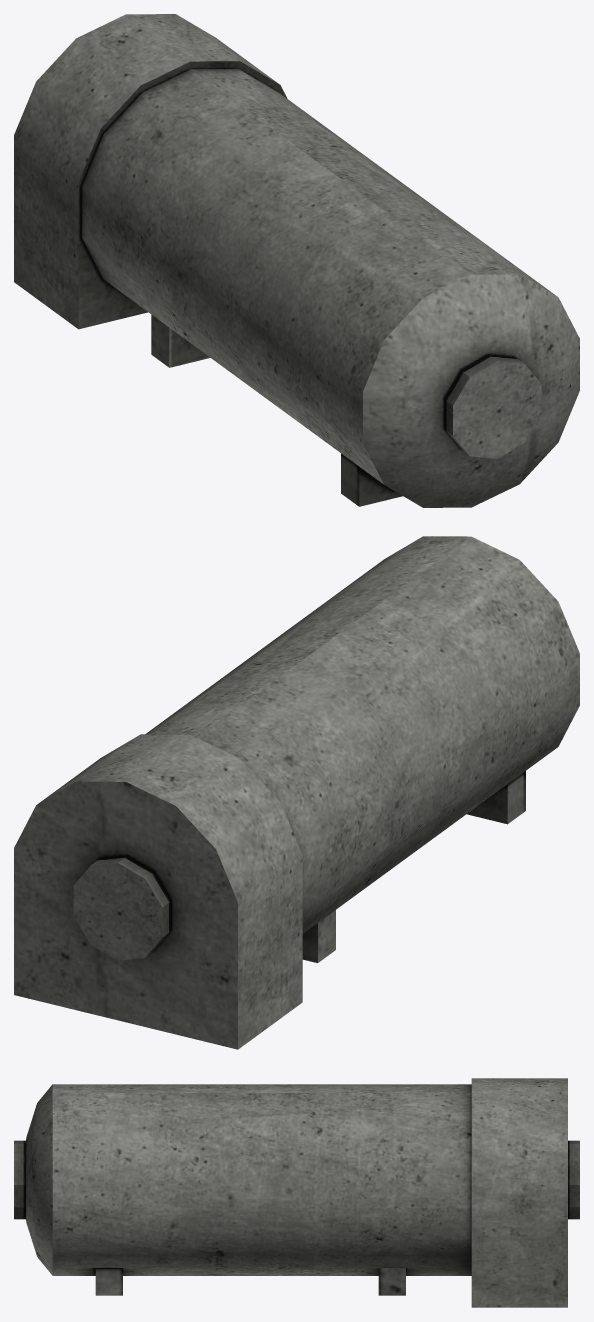
The model's file is Tank2.obj.
3 views of the same model, one above another, from view 1: azimuth 30°, elevation 25°; view 2: azimuth 150°, elevation 25°; view 3: azimuth 270°, elevation 25° (orthographic). The views are drawn at different scales.
Parts seen in each view (by area): view 1: Tank2; view 2: Tank2; view 3: Tank2.
Part boxes in pixels (x1,y1,x2,y2): Tank2: [14, 14, 579, 507]; Tank2: [14, 536, 579, 1049]; Tank2: [14, 1078, 579, 1307].
Size of the model in its own units: 57.04 by 58.51 by 167.
